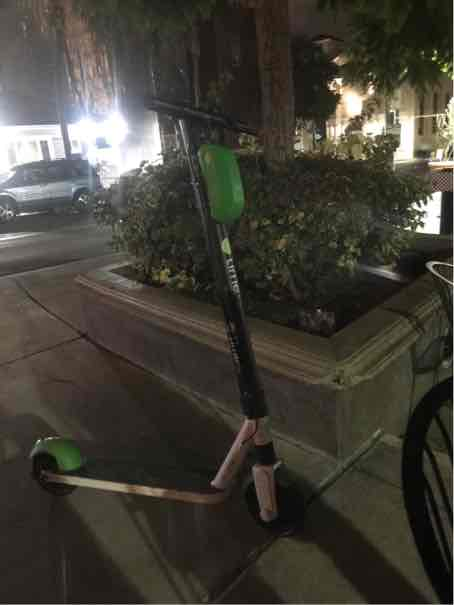scooter: (20, 87, 316, 538)
